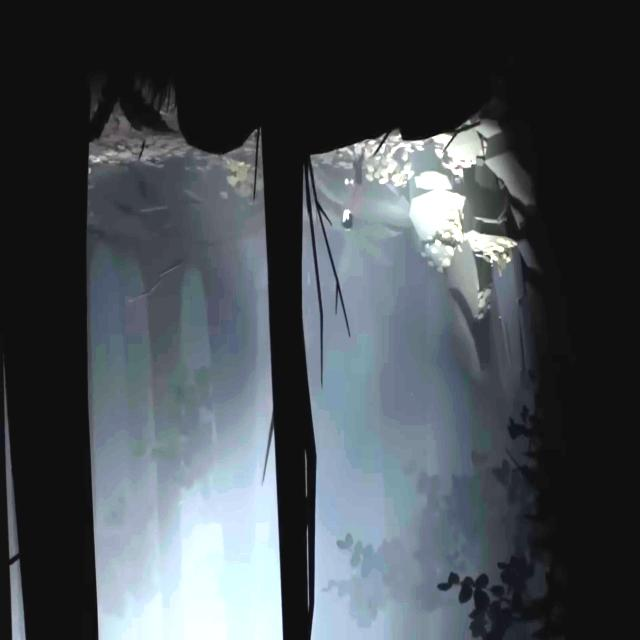boy: (342, 144, 370, 232)
